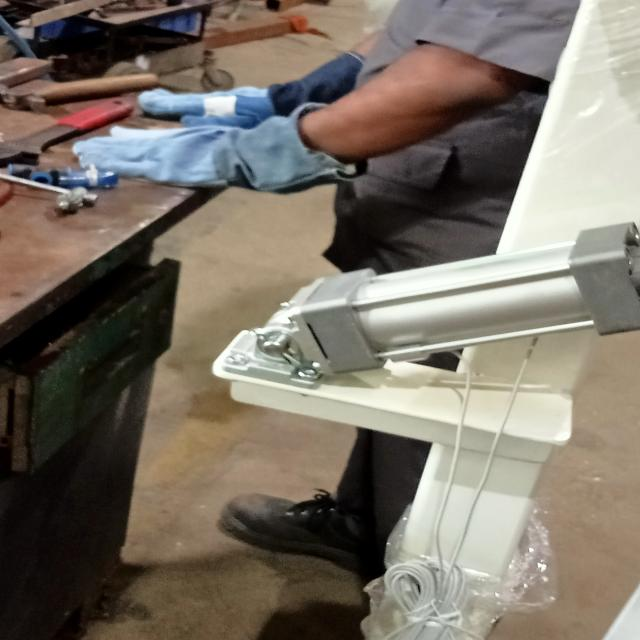Gloves-Detection: (74, 81, 352, 185)
